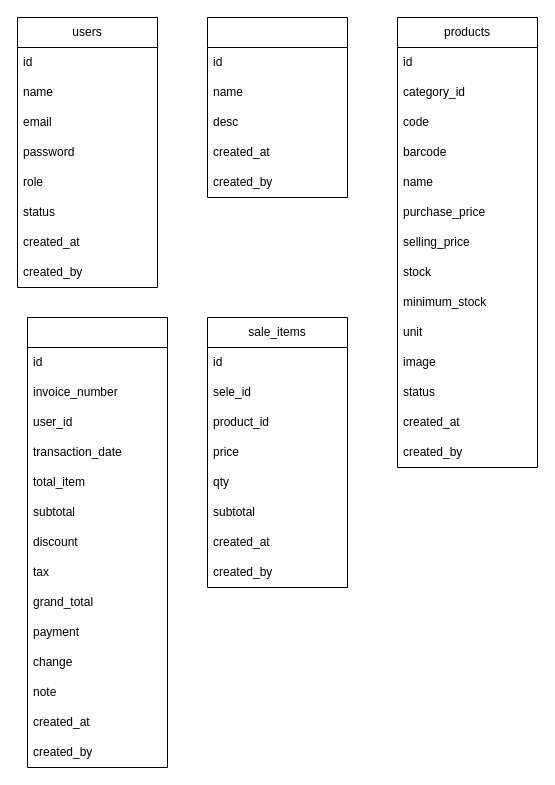
Image size: 555x785. Some labels were removed from this diagram. Each missing label, with the box of its shape:
categories: (206, 16, 348, 198)
sales: (26, 316, 168, 768)
